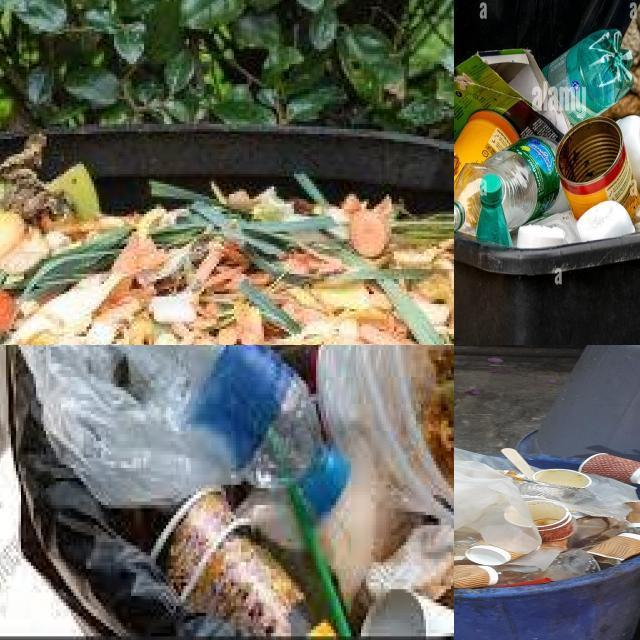Disposable: (152, 488, 336, 639), (319, 345, 454, 521), (493, 549, 600, 587), (412, 596, 454, 637), (454, 527, 482, 555)
Garbage: (10, 345, 454, 639), (0, 135, 454, 345), (454, 29, 640, 249), (454, 447, 640, 590)
Metal: (501, 470, 595, 504)
Plastic_Bag: (19, 345, 232, 508), (454, 460, 542, 554), (567, 475, 639, 518), (567, 517, 628, 549), (496, 547, 564, 573), (454, 447, 518, 471)
Plastic_Container: (577, 200, 635, 242), (617, 116, 640, 192)
Plastic_Straw: (288, 485, 352, 639)
Plastic_bottle: (21, 345, 350, 515), (454, 138, 559, 234), (542, 29, 634, 123), (476, 174, 512, 246)
Tin_box: (555, 117, 640, 219), (454, 111, 518, 183)
